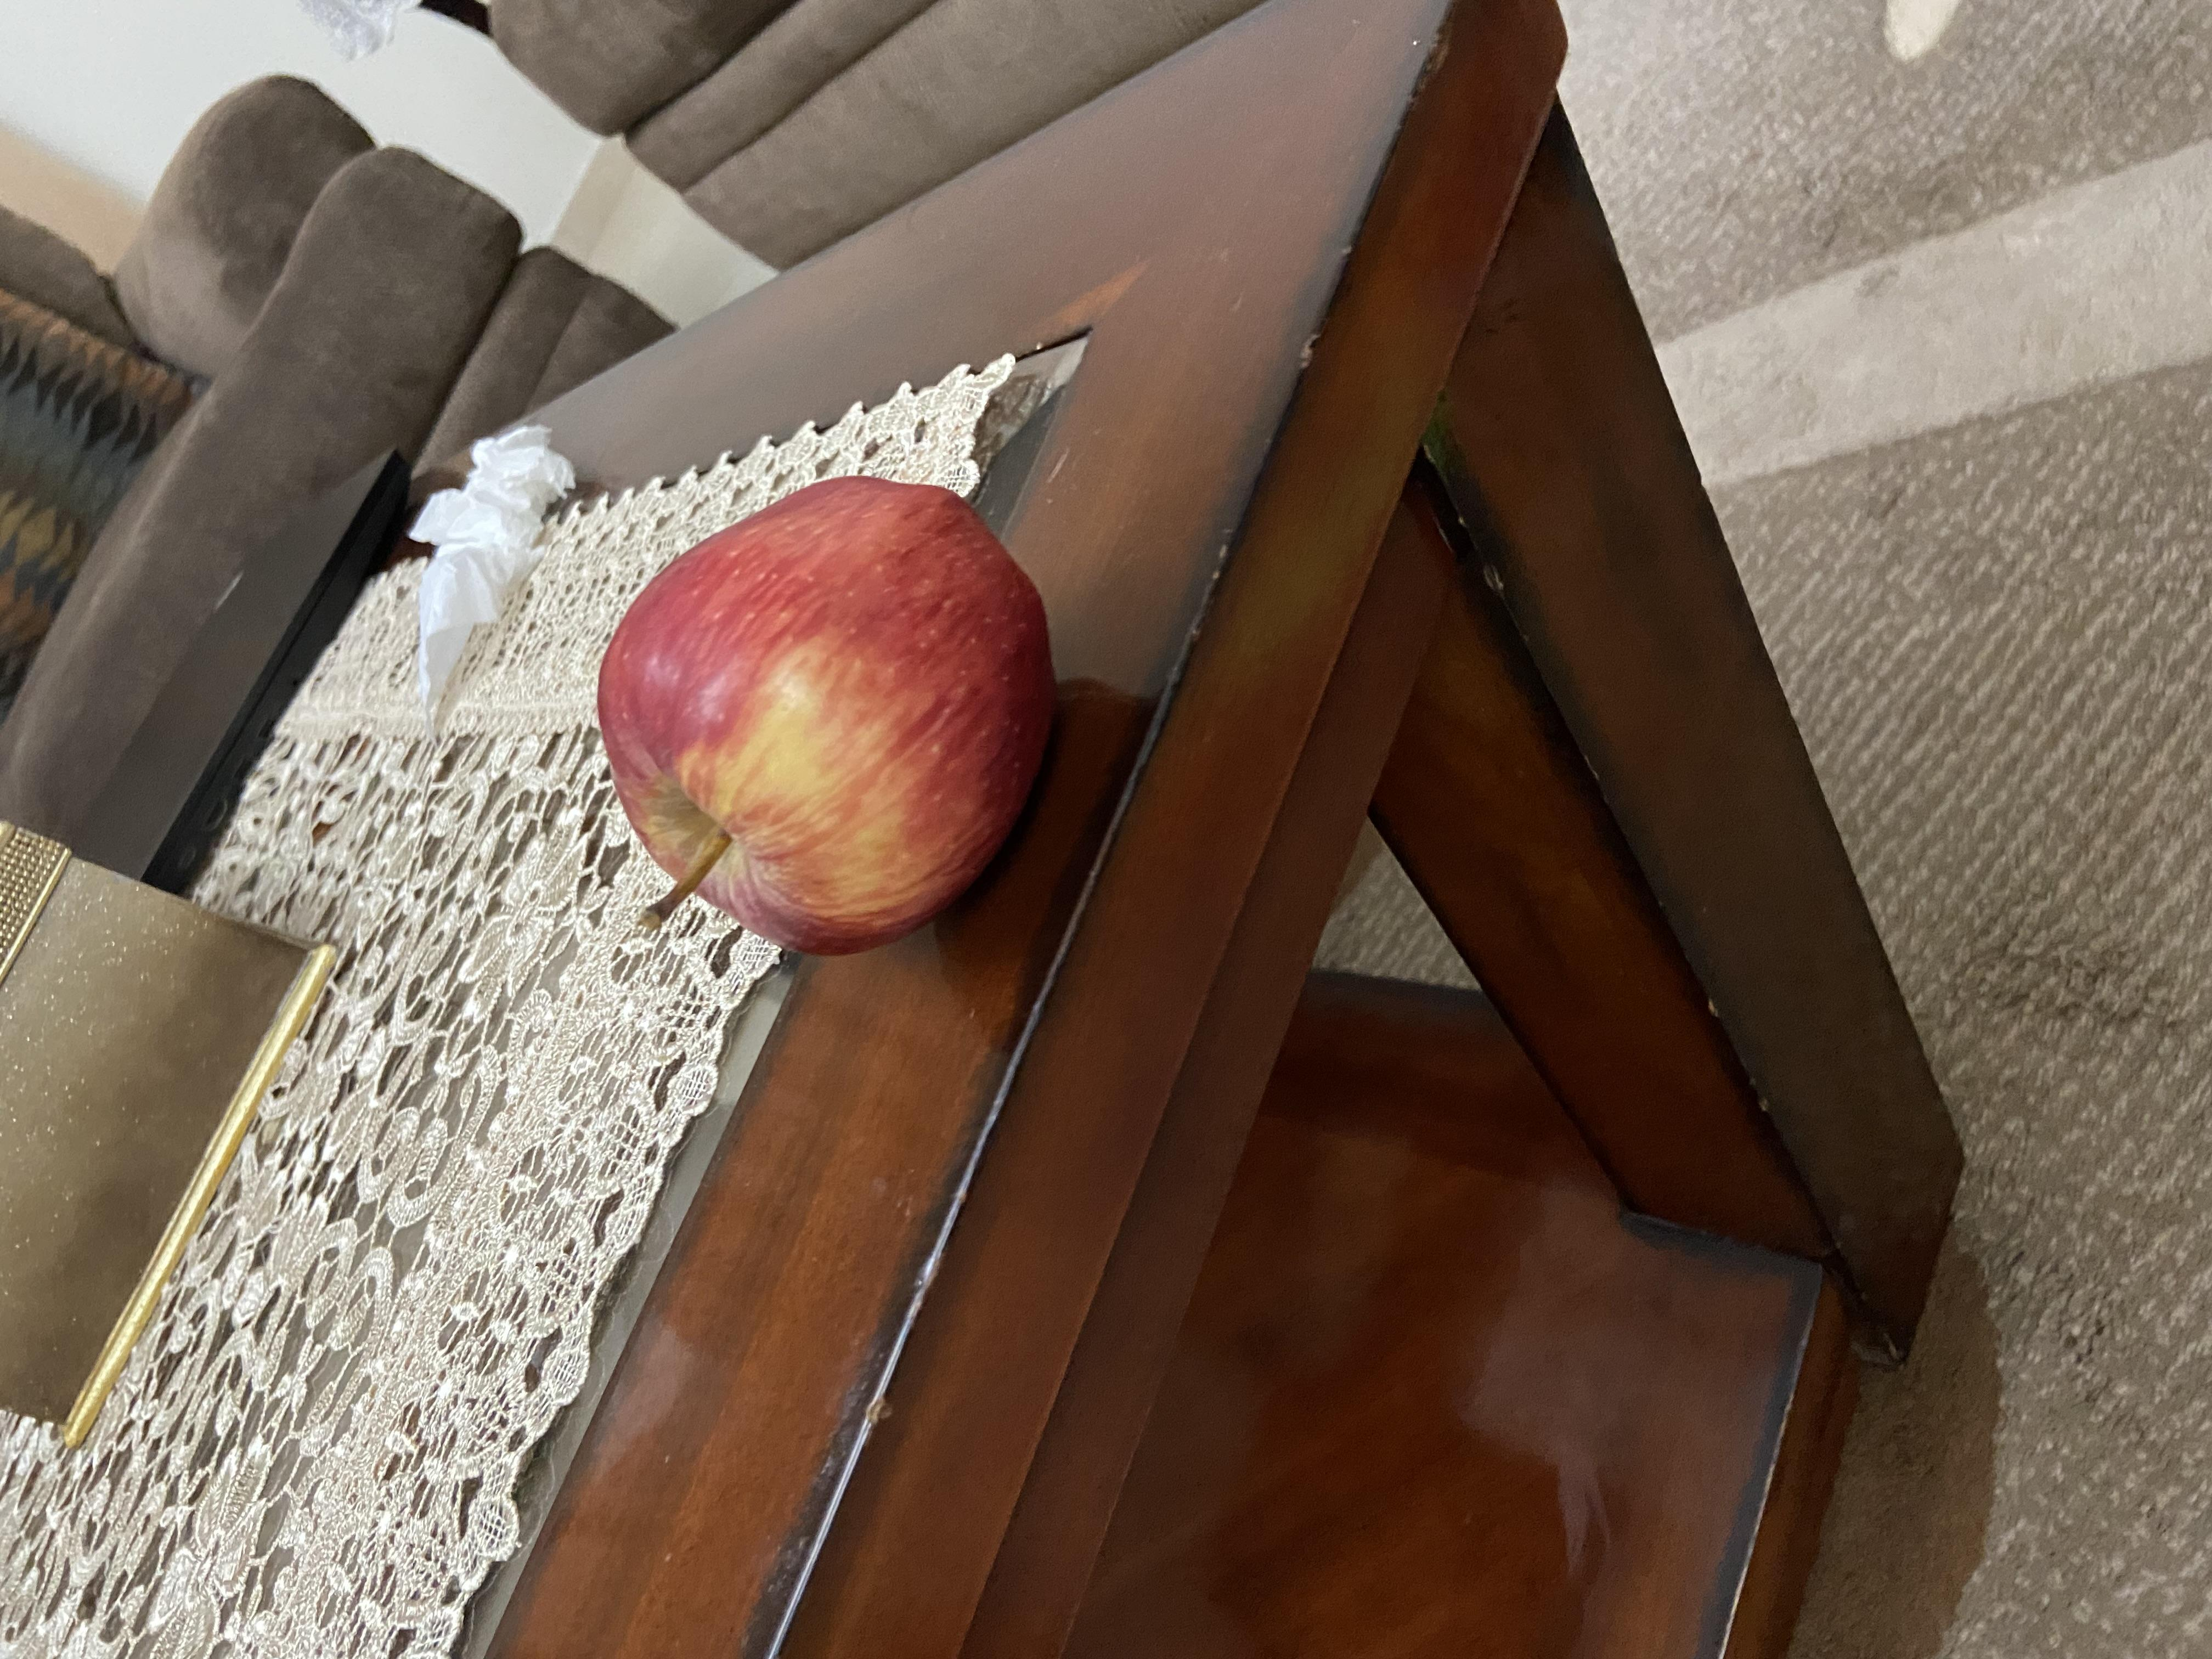Apple: (895, 429, 1602, 795)
